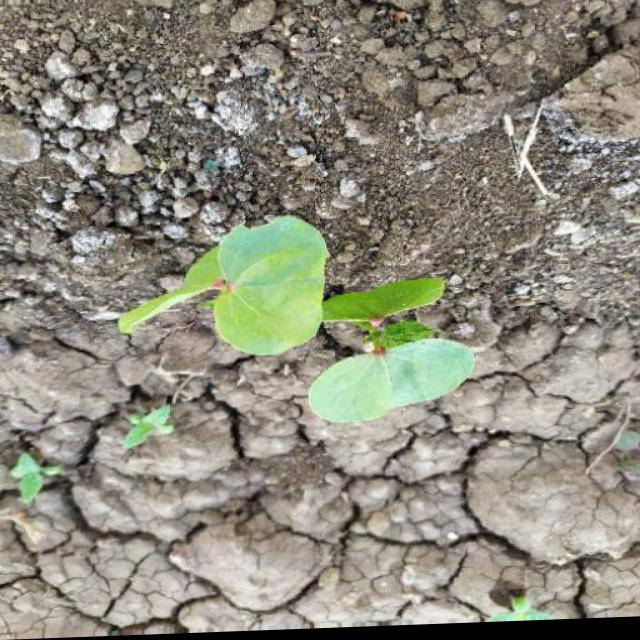weed: (124, 168, 508, 492)
